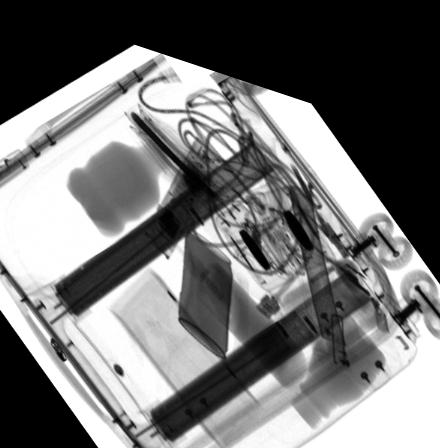Baton: (141, 122, 222, 248)
